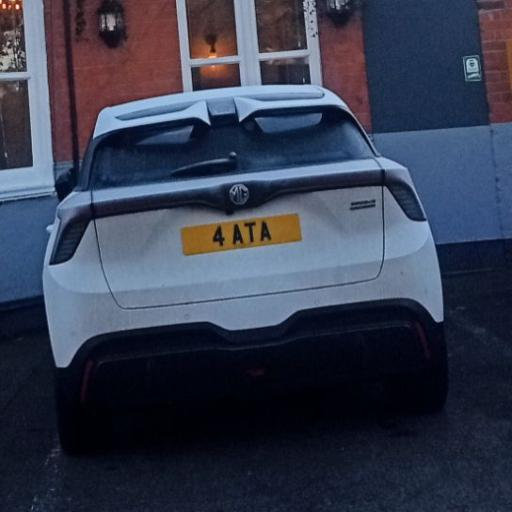numberplates: (182, 214, 302, 255)
